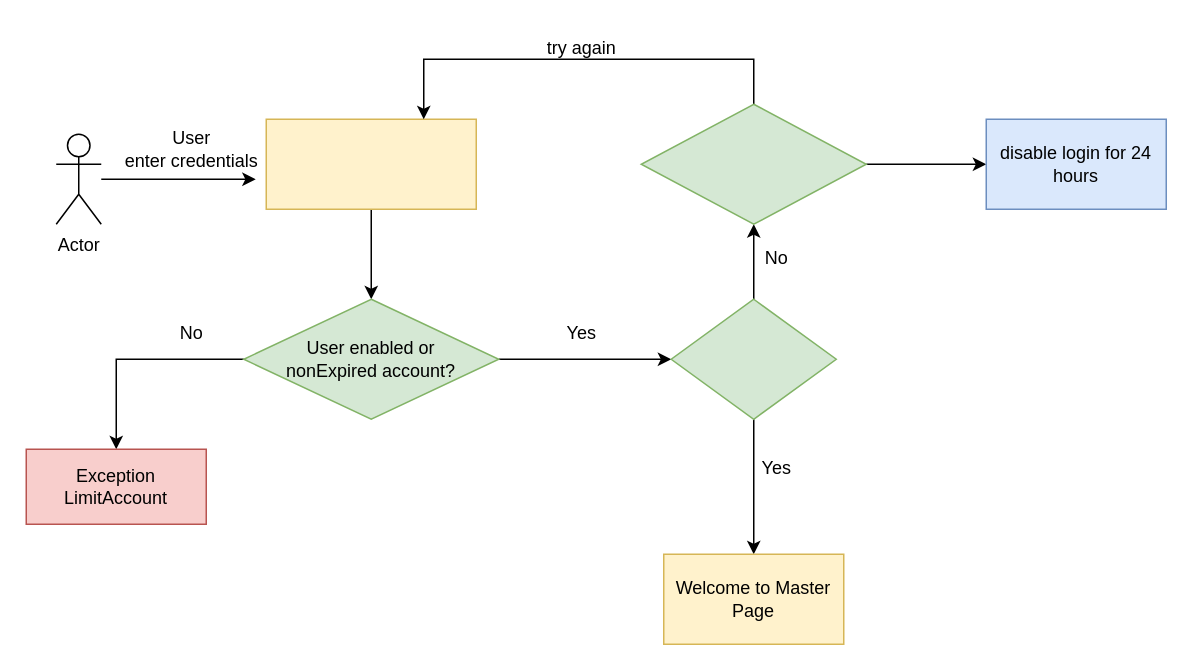
This 1193x671 diagram has some shape labels left out. Each missing label, with the centre of its shape:
"if 3 unsuccessful attempt?" belongs at pixel 753 163.
"Login Page" belongs at pixel 370 163.
"Login successfull?" belongs at pixel 753 358.
